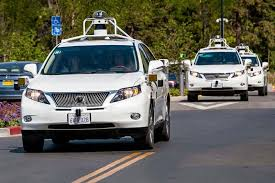car: (20, 35, 169, 153), (185, 48, 248, 103), (240, 52, 269, 95)
